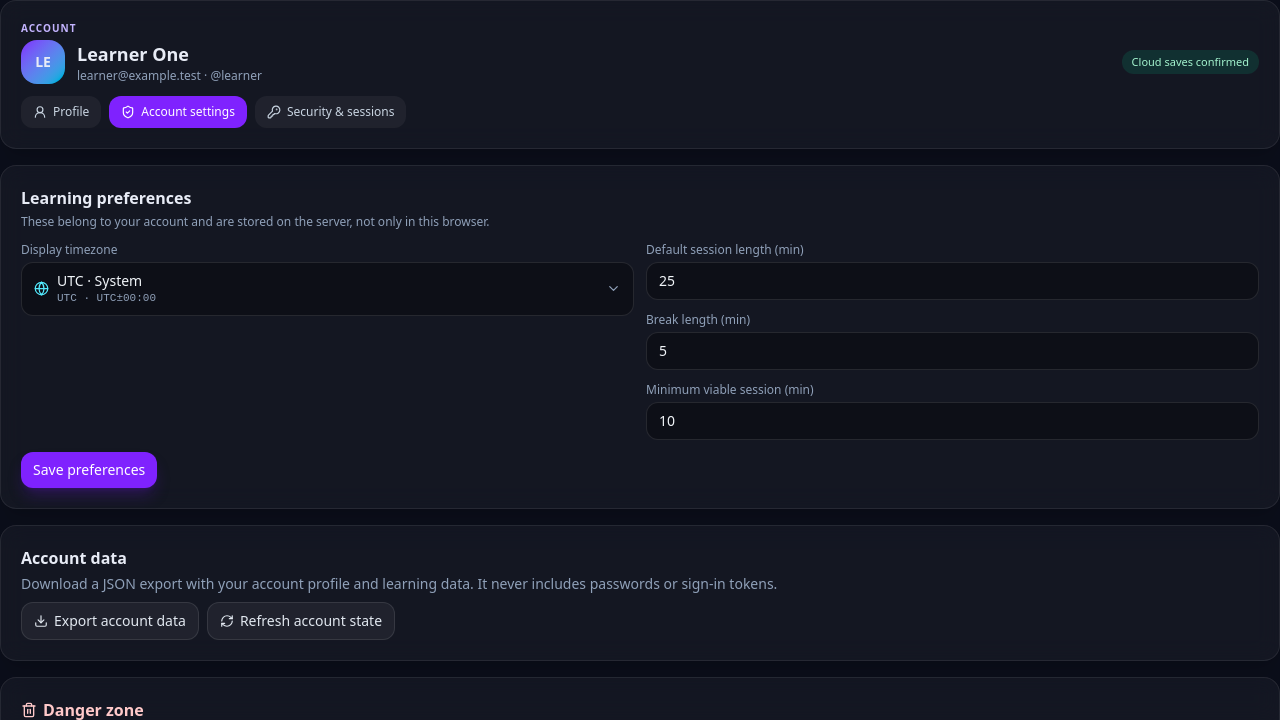
Test: account screen › refreshes the authenticated profile and server-side account data
What coordinates should you click on to do the following:
click the button "Refresh account state"
I would click on:
 (301, 621)
Its box is x1=207 y1=602 x2=395 y2=640.
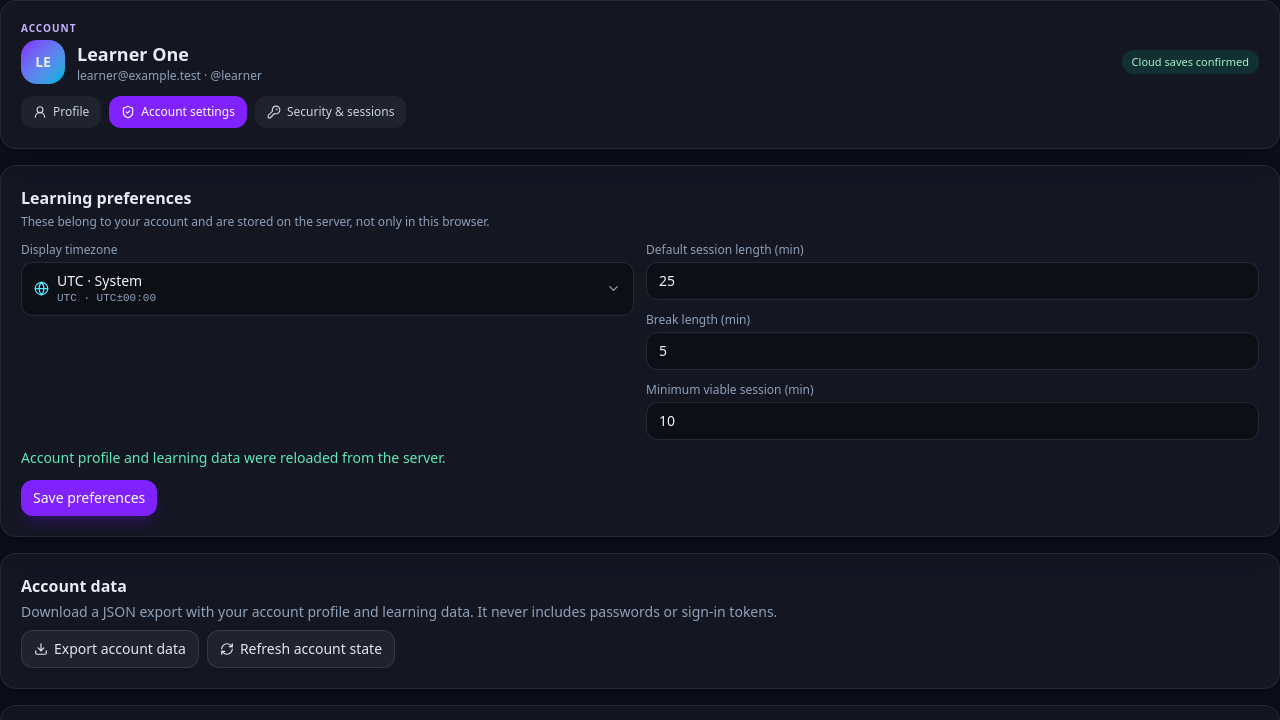
Expected: the message shows "reloaded from the server", x1=21 y1=448 x2=446 y2=467
